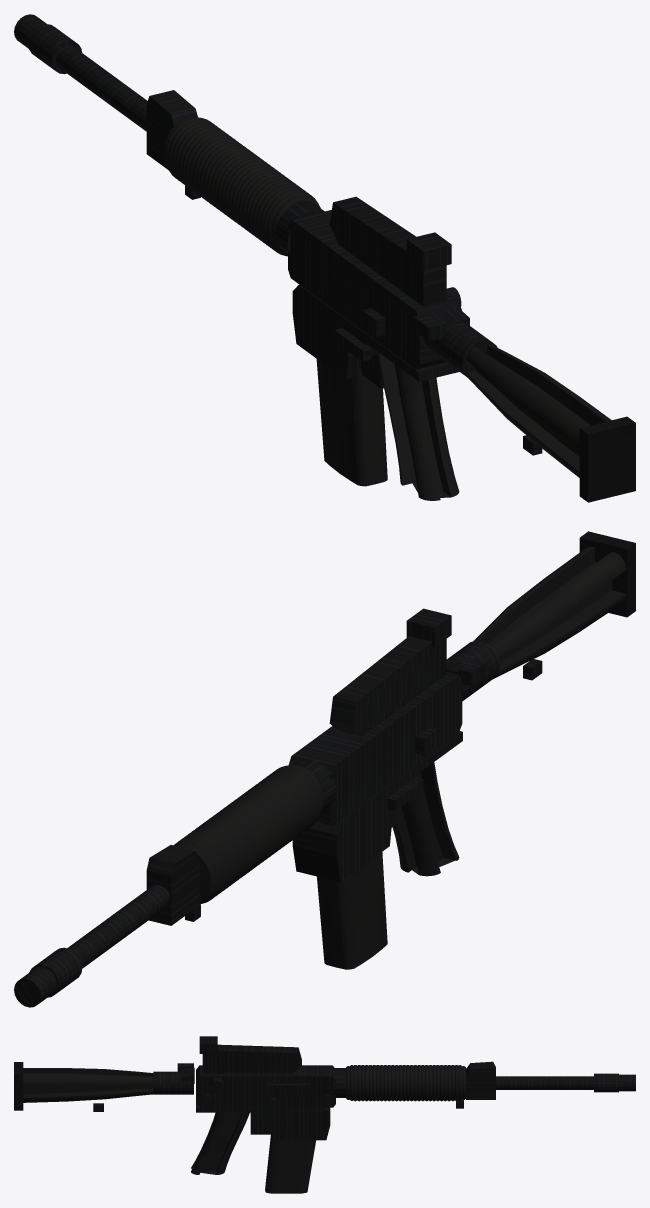
File: AR15_Game.fbx
The picture shows the model from 3 angles, top to bottom: view 1: azimuth 30°, elevation 25°; view 2: azimuth 150°, elevation 25°; view 3: azimuth 270°, elevation 25°; orthographic projection. The views are drawn at different scales.
Visible parts, largest first — view 1: Body_Upper, Stock, Handguard_Upper, Grip, Magazine, CarryHandle, Body_Lower, Buttpad, Barrel, FrontSightBase, BufferTube, Handguard_Lower (+3 smaller); view 2: Body_Upper, Stock, Handguard_Upper, CarryHandle, Body_Lower, Magazine, Grip, FrontSightBase, Barrel, Buttpad, Handguard_Lower, RearSight (+5 smaller); view 3: Body_Upper, Stock, Handguard_Upper, CarryHandle, Body_Lower, Magazine, Grip, Barrel, Handguard_Lower, FrontSightBase, BufferTube, PortCover (+6 smaller).
Part boxes in pixels (x1=…): Body_Upper: x1=288, y1=210, x2=461, y2=369; Stock: x1=466, y1=344, x2=611, y2=477; Handguard_Upper: x1=163, y1=117, x2=320, y2=233; Grip: x1=377, y1=351, x2=459, y2=500; Magazine: x1=316, y1=359, x2=387, y2=486; CarryHandle: x1=329, y1=196, x2=446, y2=306; Body_Lower: x1=292, y1=284, x2=459, y2=381; Buttpad: x1=579, y1=416, x2=635, y2=502; Barrel: x1=56, y1=46, x2=147, y2=131; FrontSightBase: x1=146, y1=90, x2=197, y2=169; BufferTube: x1=424, y1=319, x2=497, y2=377; Handguard_Lower: x1=163, y1=153, x2=287, y2=256; Body_Upper: x1=288, y1=672, x2=462, y2=825; Stock: x1=473, y1=546, x2=626, y2=678; Handguard_Upper: x1=174, y1=765, x2=323, y2=881; CarryHandle: x1=329, y1=636, x2=446, y2=736; Body_Lower: x1=292, y1=731, x2=462, y2=882; Magazine: x1=316, y1=852, x2=387, y2=969; Grip: x1=392, y1=762, x2=459, y2=876; FrontSightBase: x1=146, y1=845, x2=199, y2=925; Barrel: x1=67, y1=885, x2=170, y2=968; Buttpad: x1=579, y1=531, x2=635, y2=617; Handguard_Lower: x1=199, y1=801, x2=323, y2=904; RearSight: x1=406, y1=608, x2=451, y2=646; Body_Upper: x1=196, y1=1065, x2=335, y2=1107; Stock: x1=23, y1=1068, x2=153, y2=1102; Handguard_Upper: x1=346, y1=1065, x2=465, y2=1089; CarryHandle: x1=202, y1=1044, x2=301, y2=1073; Body_Lower: x1=196, y1=1104, x2=330, y2=1140; Magazine: x1=265, y1=1132, x2=315, y2=1193; Grip: x1=191, y1=1112, x2=249, y2=1174; Barrel: x1=496, y1=1076, x2=593, y2=1089; Handguard_Lower: x1=346, y1=1089, x2=465, y2=1101; FrontSightBase: x1=466, y1=1061, x2=495, y2=1099; BufferTube: x1=153, y1=1071, x2=193, y2=1094; PortCover: x1=267, y1=1083, x2=310, y2=1095.
Size of the model in its own units: 5.64 by 23.1 by 87.1.
Materials: 10 (10 with a texture image).
